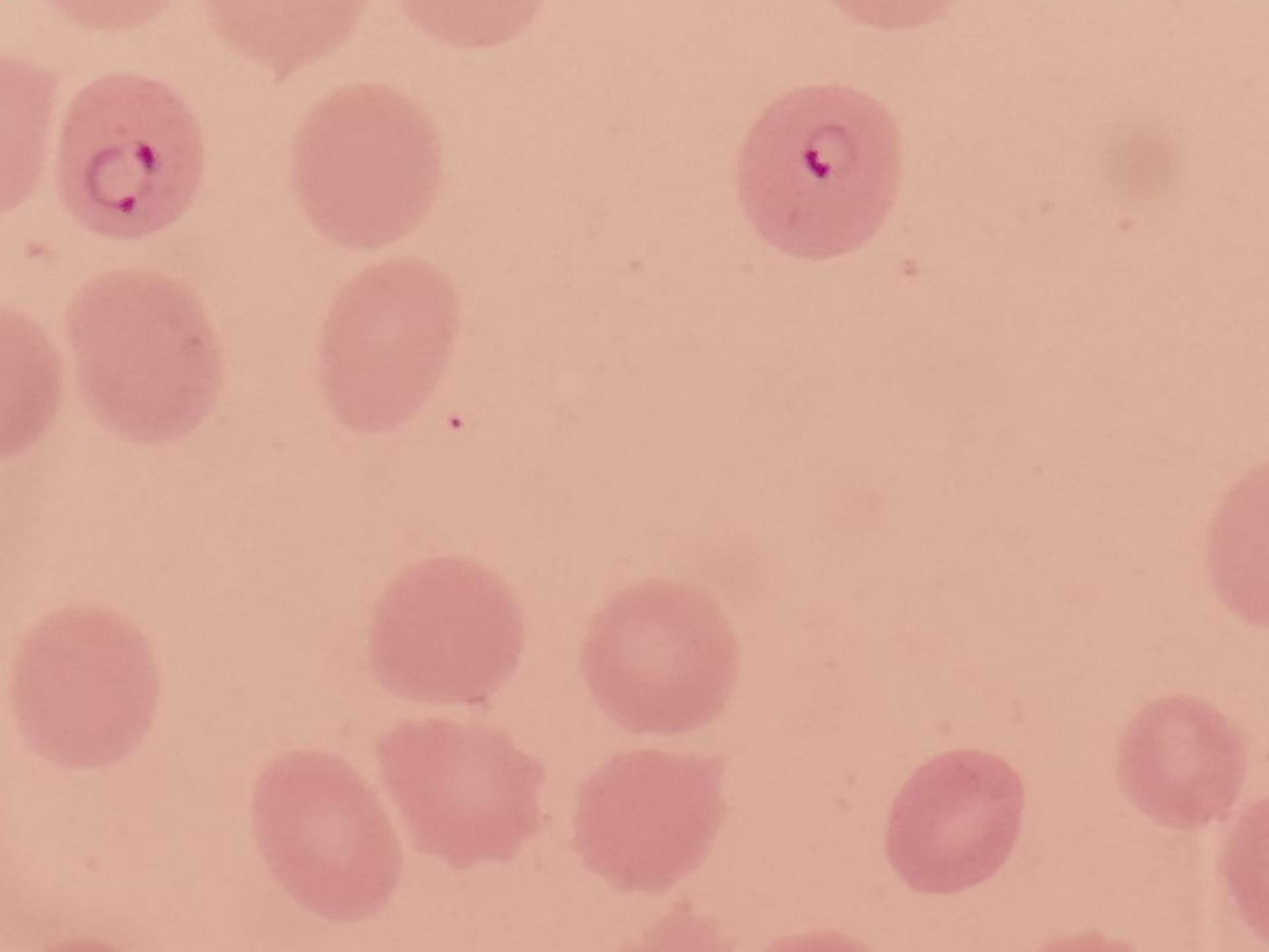Infected: (735, 86, 901, 258), (58, 75, 207, 237)
Uninfected: (61, 265, 222, 438), (375, 717, 549, 867), (316, 259, 463, 435), (256, 753, 404, 923), (10, 606, 161, 771), (294, 85, 441, 250), (583, 582, 737, 737), (372, 555, 525, 707), (572, 750, 726, 889), (886, 752, 1028, 894), (1117, 699, 1244, 828)
